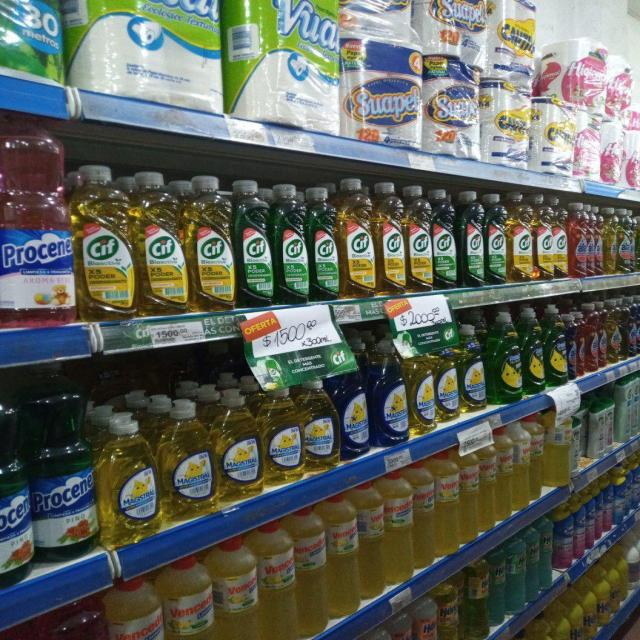ala_conc_amarillo: (618, 207, 634, 274), (603, 207, 617, 275)
ala_conc_azul: (629, 296, 640, 356)
ala_conc_rojo: (569, 202, 588, 278), (588, 203, 602, 277), (586, 302, 600, 372)
cif_conc_bot_amarilla: (76, 163, 134, 320), (135, 169, 186, 316), (187, 174, 234, 312), (339, 178, 375, 298), (375, 181, 406, 295), (407, 185, 432, 292), (508, 192, 534, 284), (535, 195, 555, 282), (553, 200, 568, 279)
cif_conc_botella_verde: (235, 178, 272, 308), (273, 182, 309, 304), (309, 184, 338, 300), (432, 188, 458, 290), (460, 190, 484, 288), (486, 192, 508, 285)
magistral_con_amarillo: (101, 412, 158, 545), (160, 398, 214, 520), (216, 388, 260, 501), (262, 387, 302, 485), (303, 378, 338, 471), (459, 324, 486, 413), (409, 345, 435, 436), (435, 346, 458, 422)
magistral_con_azul: (371, 341, 408, 447), (340, 362, 370, 458), (523, 307, 544, 394), (546, 307, 567, 388)
magistral_con_verde: (489, 310, 522, 404)
